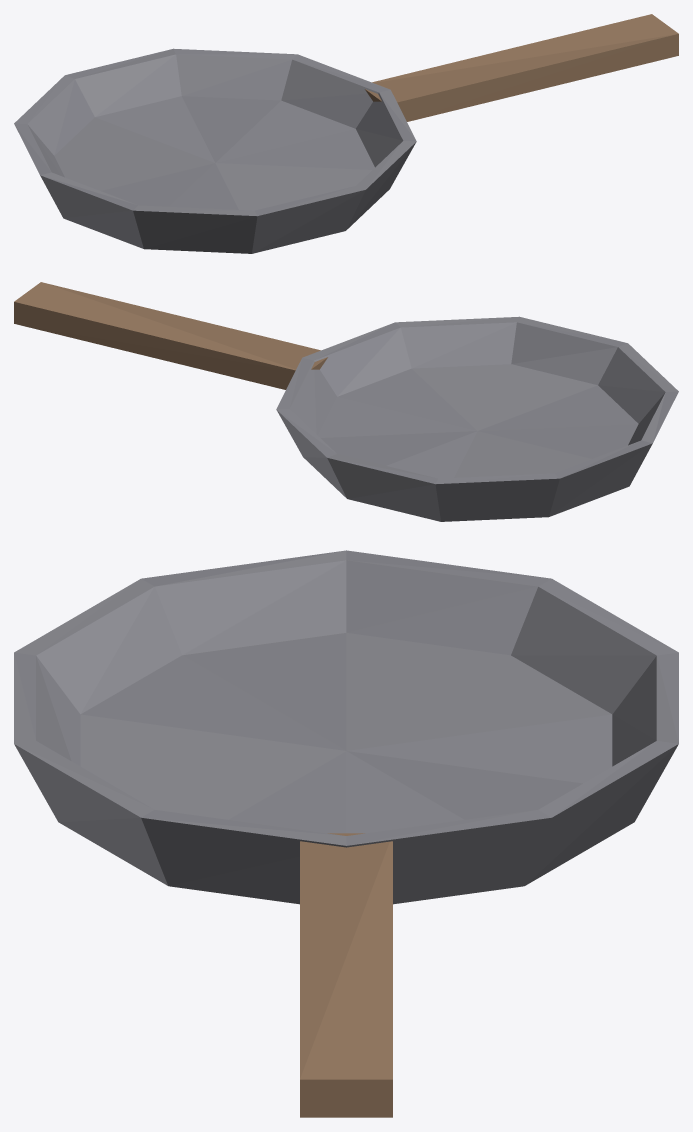
Rendered from pan.glb.
3 views of the same model, one above another, from view 1: azimuth 30°, elevation 25°; view 2: azimuth 150°, elevation 25°; view 3: azimuth 270°, elevation 25° (orthographic). The views are drawn at different scales.
Visible parts, largest first — view 1: pan; view 2: pan; view 3: pan.
Boxes of the visible parts, x1=… form: pan: x1=14, y1=14, x2=678, y2=253; pan: x1=14, y1=282, x2=678, y2=521; pan: x1=14, y1=550, x2=678, y2=1117.
Bounding box in the file's own units: 0.535 × 0.04 × 0.2853.
